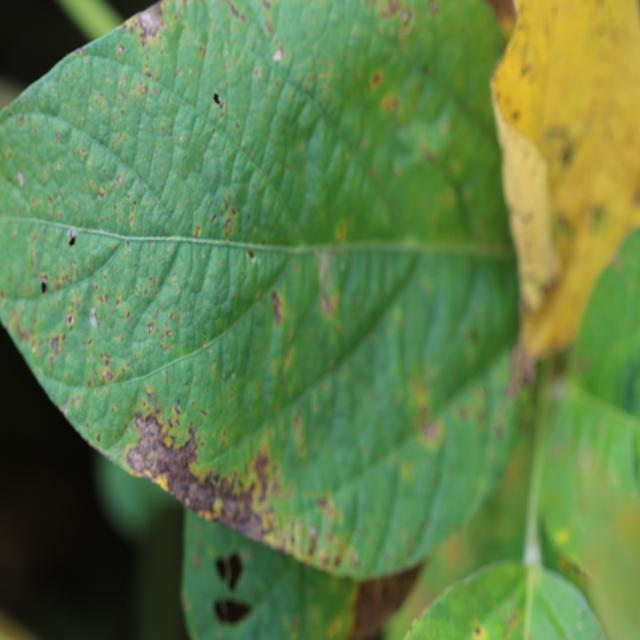Bacterial_Blight: (131, 412, 170, 460), (614, 500, 640, 571), (248, 449, 278, 507), (144, 308, 177, 350), (134, 7, 166, 46), (543, 124, 573, 161), (93, 350, 121, 387), (521, 272, 547, 305), (10, 310, 34, 344), (126, 72, 149, 104), (223, 599, 251, 624), (266, 285, 286, 319), (420, 416, 443, 444), (502, 607, 522, 639), (377, 0, 404, 22), (553, 216, 574, 242), (317, 250, 333, 281), (320, 293, 335, 318), (400, 458, 415, 483), (327, 616, 344, 638), (226, 0, 244, 20), (516, 208, 535, 226), (590, 206, 606, 227), (423, 146, 439, 166), (382, 94, 398, 113), (554, 527, 570, 546), (307, 525, 318, 550), (216, 557, 227, 581), (634, 446, 640, 484), (316, 495, 330, 511), (50, 335, 61, 355), (212, 496, 224, 514), (67, 228, 78, 247), (336, 223, 347, 242), (272, 45, 284, 62), (39, 276, 49, 296), (291, 616, 301, 636), (89, 309, 99, 328), (211, 90, 222, 107), (263, 18, 274, 35), (371, 70, 382, 87), (350, 551, 360, 568), (97, 293, 109, 307), (469, 328, 480, 343), (246, 247, 257, 262), (410, 617, 421, 632), (223, 217, 233, 233), (494, 424, 504, 440), (191, 552, 201, 568), (253, 66, 264, 80), (520, 64, 531, 78), (66, 312, 75, 328), (17, 170, 25, 188), (634, 182, 640, 206), (193, 224, 202, 239), (510, 109, 520, 122), (97, 186, 106, 199), (221, 198, 229, 212), (143, 69, 152, 80), (147, 322, 154, 335), (116, 44, 124, 55), (212, 472, 220, 483), (576, 620, 584, 631), (18, 114, 25, 126), (474, 626, 482, 636), (200, 407, 208, 417), (55, 131, 61, 144), (184, 496, 191, 507), (174, 404, 181, 414), (131, 200, 138, 210), (63, 406, 69, 417), (117, 174, 123, 184), (96, 432, 101, 443), (211, 214, 217, 223), (179, 134, 184, 142), (378, 353, 382, 359)
Soybean: (0, 0, 518, 578)
